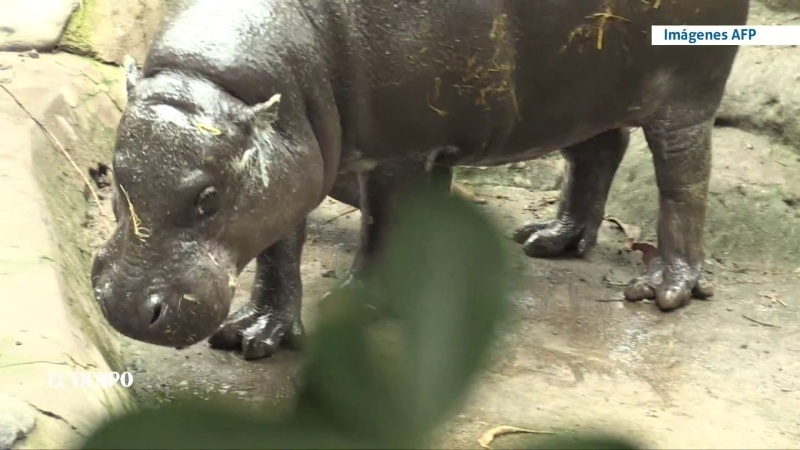hipopotamo: (82, 1, 750, 368)
